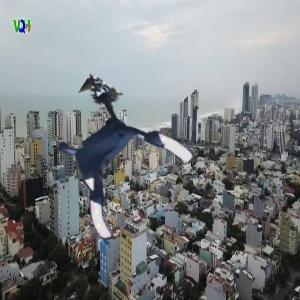drone: (44, 99, 180, 235)
